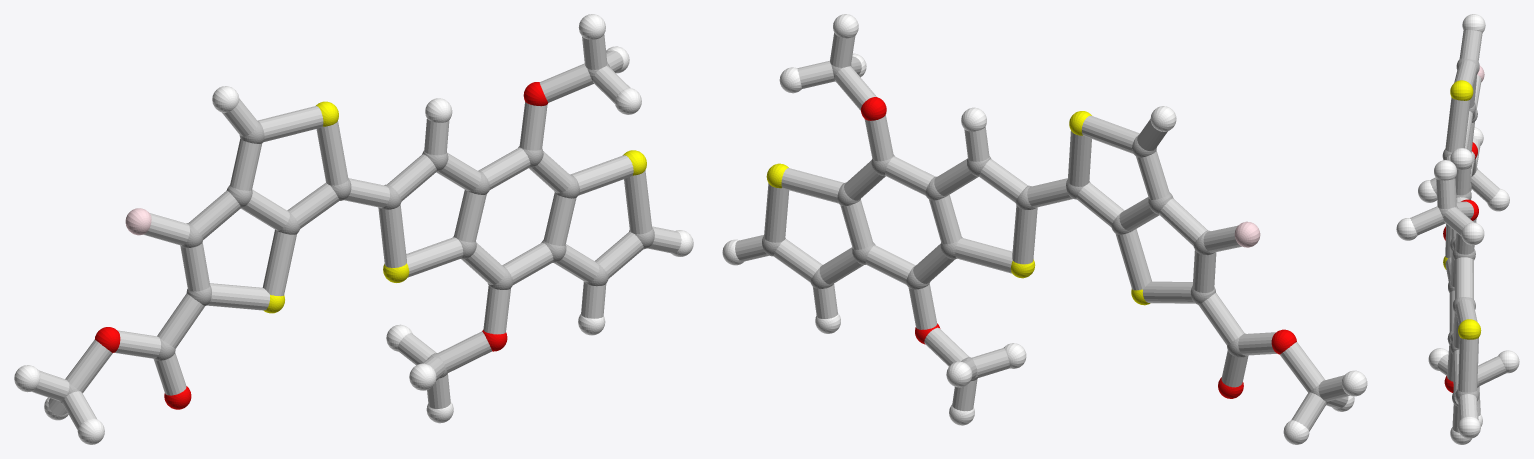
File: Dimethoxy_Benzodithiophene_Phi_10_Theta_0_Methylcarbonyl_3_Fluoro_Thienothiophene.glb
3 views of the same model, side by side, from view 1: azimuth 30°, elevation 25°; view 2: azimuth 150°, elevation 25°; view 3: azimuth 270°, elevation 25° (orthographic). The views are drawn at different scales.
Visible parts, largest first — view 1: grp15205, grp8689, grp1, grp13395, grp7241; view 2: grp15205, grp8689, grp1, grp13395, grp7241; view 3: grp15205, grp8689, grp1, grp7241, grp13395.
Part boxes in pixels (bbox=[...]): grp15205: bbox=[32, 34, 681, 429]; grp8689: bbox=[14, 14, 693, 444]; grp1: bbox=[59, 62, 654, 404]; grp13395: bbox=[95, 82, 548, 409]; grp7241: bbox=[264, 101, 646, 313]; grp15205: bbox=[735, 33, 1349, 431]; grp8689: bbox=[722, 14, 1367, 444]; grp1: bbox=[762, 64, 1330, 403]; grp13395: bbox=[861, 97, 1296, 398]; grp7241: bbox=[766, 111, 1150, 305]; grp15205: bbox=[1410, 29, 1506, 432]; grp8689: bbox=[1396, 14, 1519, 444]; grp1: bbox=[1439, 58, 1479, 406]; grp7241: bbox=[1443, 80, 1481, 339]; grp13395: bbox=[1443, 142, 1478, 392].
Size of the model in its own units: 17.14 by 9.37 by 3.19.
